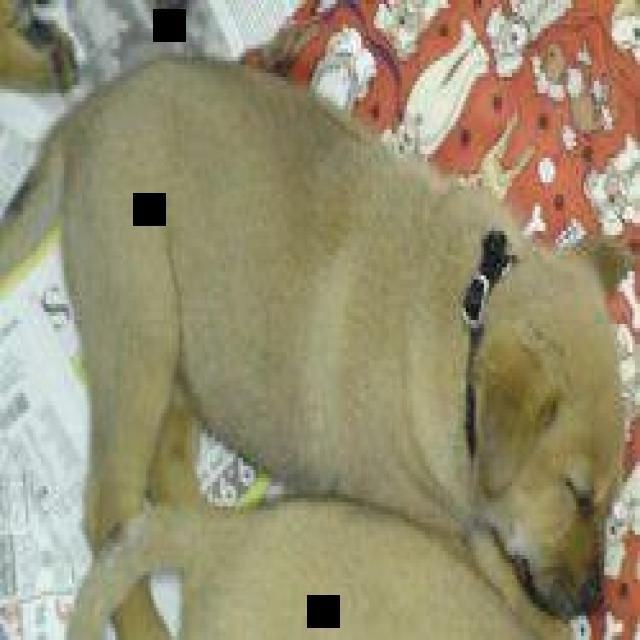adult_dog: (1, 47, 635, 623)
puppy-dog: (60, 492, 578, 640)
